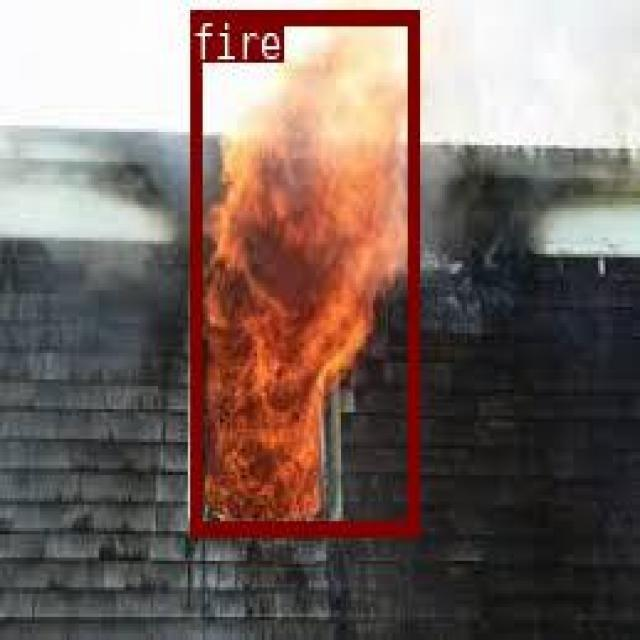fire: (189, 7, 416, 533)
